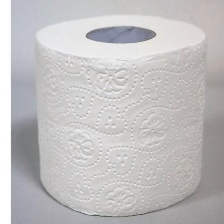tissue: (27, 9, 212, 221)
